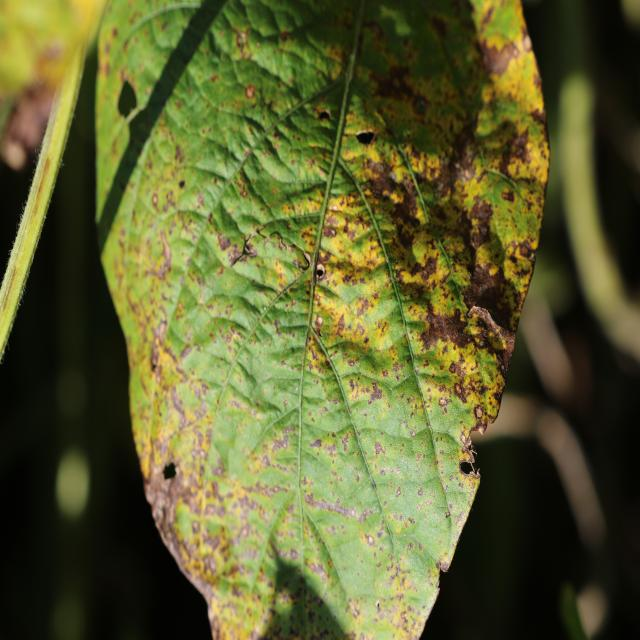Bacterial_Blight: (364, 539, 420, 624), (145, 435, 195, 529), (368, 63, 432, 117), (480, 314, 520, 397), (438, 480, 478, 561), (209, 582, 263, 638), (521, 96, 550, 198), (364, 159, 408, 210), (427, 301, 470, 349), (482, 36, 525, 78), (144, 230, 175, 284), (466, 194, 495, 242), (450, 142, 481, 186), (346, 374, 384, 407), (306, 495, 355, 518), (414, 252, 440, 281), (168, 386, 187, 419), (458, 427, 477, 455), (271, 430, 292, 452), (330, 313, 347, 339), (156, 319, 167, 345), (217, 234, 232, 252), (377, 319, 390, 337), (436, 557, 449, 573), (453, 381, 465, 398), (501, 189, 515, 203), (236, 32, 247, 49), (323, 225, 337, 238), (350, 601, 360, 619), (373, 441, 385, 456), (273, 318, 282, 335), (245, 84, 255, 99), (309, 437, 322, 448), (475, 405, 484, 420), (395, 269, 404, 282), (438, 394, 447, 406), (527, 252, 536, 264), (151, 357, 158, 372), (367, 534, 375, 545), (152, 193, 158, 207), (111, 28, 118, 39), (211, 73, 218, 83), (371, 480, 377, 490), (332, 204, 339, 212), (410, 429, 416, 438), (355, 474, 361, 483), (395, 488, 401, 497), (417, 488, 423, 497), (380, 467, 386, 476), (445, 510, 451, 518), (396, 562, 401, 571), (375, 600, 380, 609)
Soybean: (96, 0, 549, 638)
